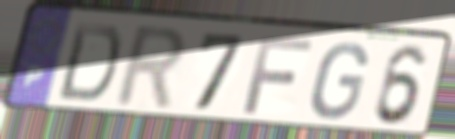6: (371, 43, 431, 129)
7: (192, 29, 251, 114)
D: (54, 20, 125, 106)
F: (240, 35, 316, 117)
G: (307, 41, 371, 122)
R: (110, 23, 189, 114)
